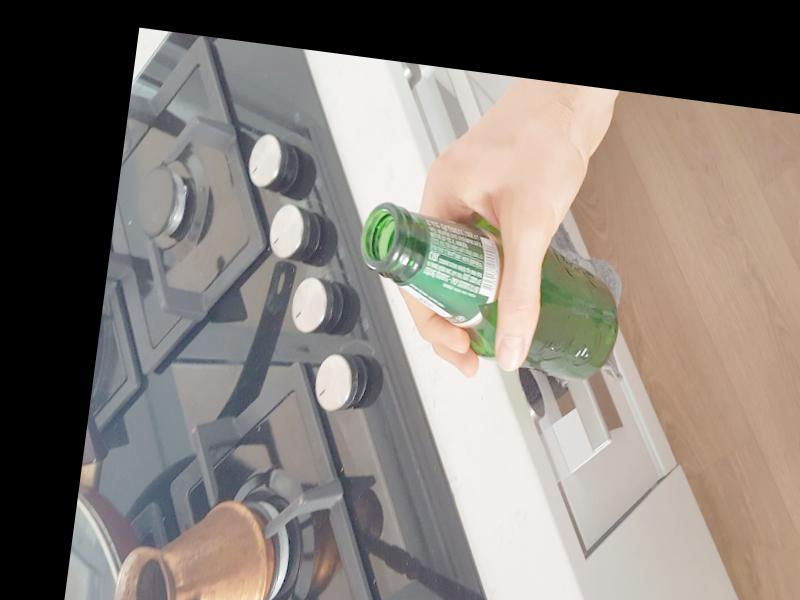Beer: (346, 200, 630, 382)
